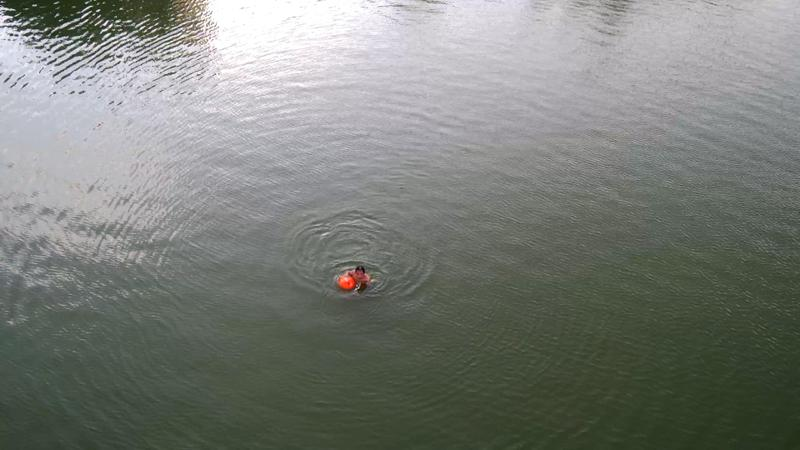swimmers: (334, 261, 371, 297)
